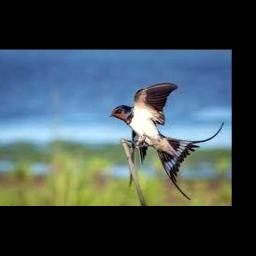Swallow: (111, 83, 224, 202)
